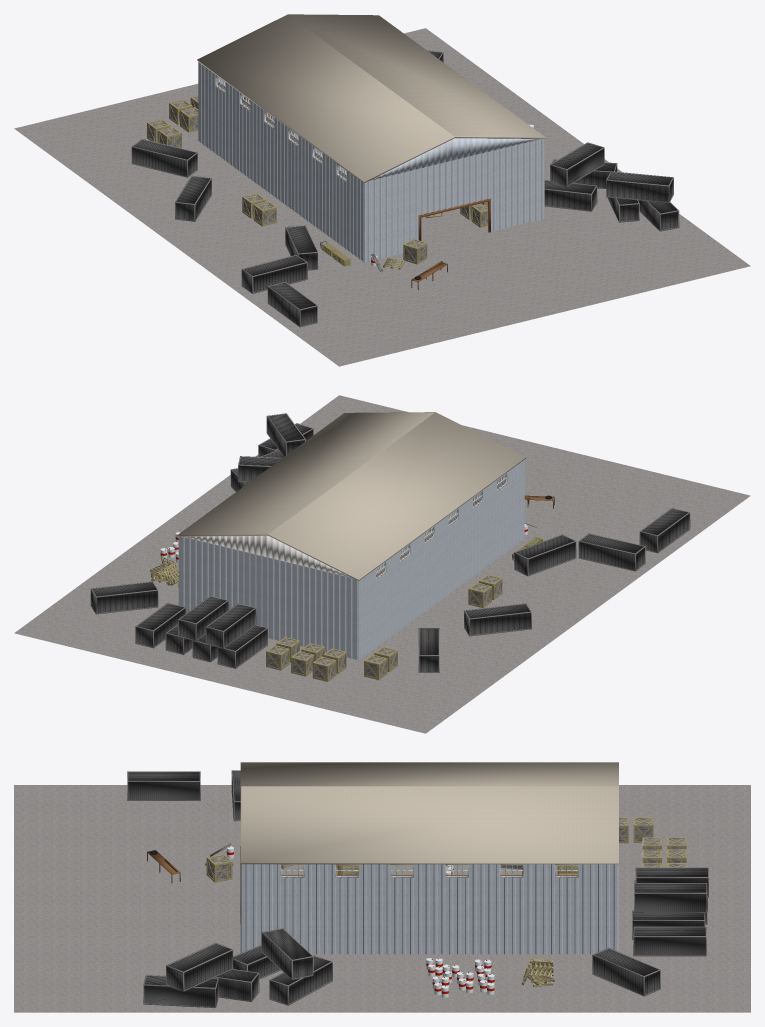
Rendered from warehouse_COMPRESSED.glb.
The picture shows the model from 3 angles, top to bottom: view 1: azimuth 30°, elevation 25°; view 2: azimuth 150°, elevation 25°; view 3: azimuth 270°, elevation 25°; orthographic projection. The views are drawn at different scales.
Visible parts, largest first — view 1: Material3 (×4), Material2 (×5); view 2: Material3 (×4), Material2 (×4); view 3: Material3 (×7), Material2 (×5).
Part boxes in pixels (<box>): Material3 (×4): <box>14,28,750,366</box>; Material2 (×5): <box>131,14,679,327</box>; Material3 (×4): <box>14,395,750,733</box>; Material2 (×4): <box>90,412,690,672</box>; Material3 (×7): <box>14,771,750,1012</box>; Material2 (×5): <box>127,762,708,1007</box>.
Bounding box in the file's own units: 12.41 × 3 × 16.97.
Materials: 16 (16 with a texture image).
